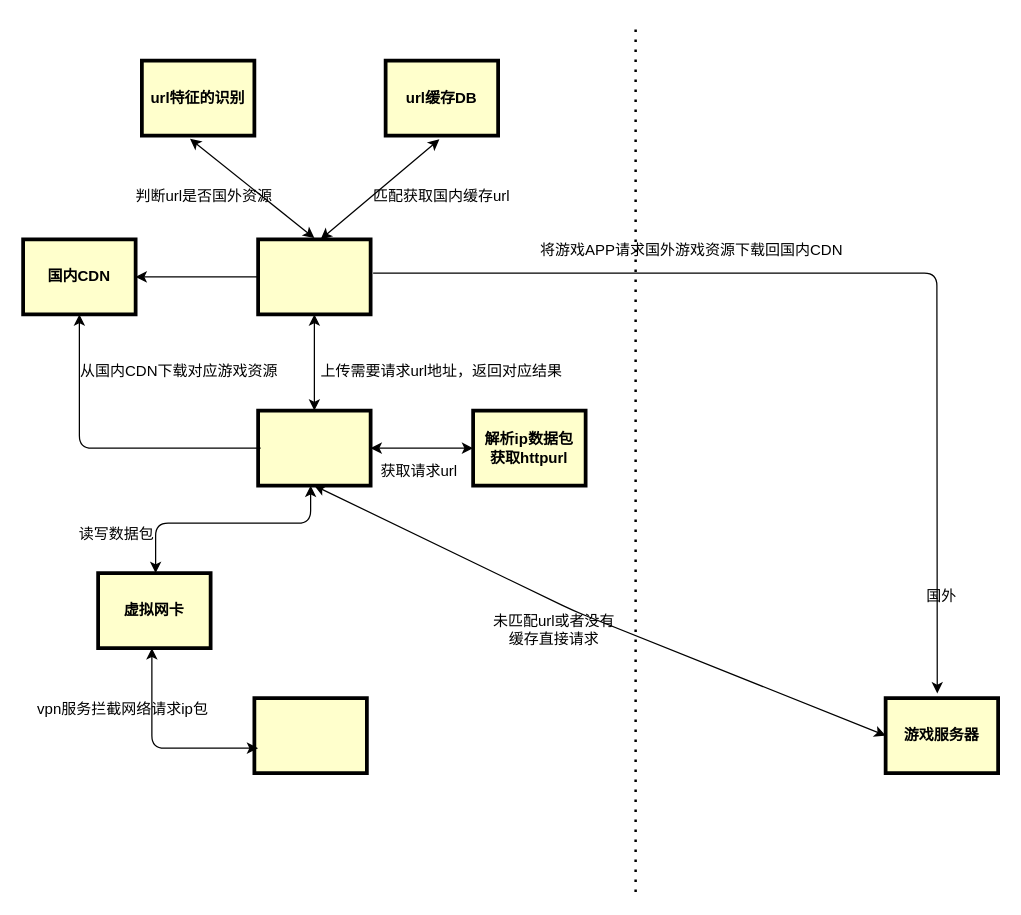
This 1021x915 diagram has some shape labels left out. Each missing label, with the centre of its shape:
"加速器" goes at (x=314, y=447).
"后台服务器" goes at (x=314, y=276).
"游戏app" goes at (x=310, y=735).
